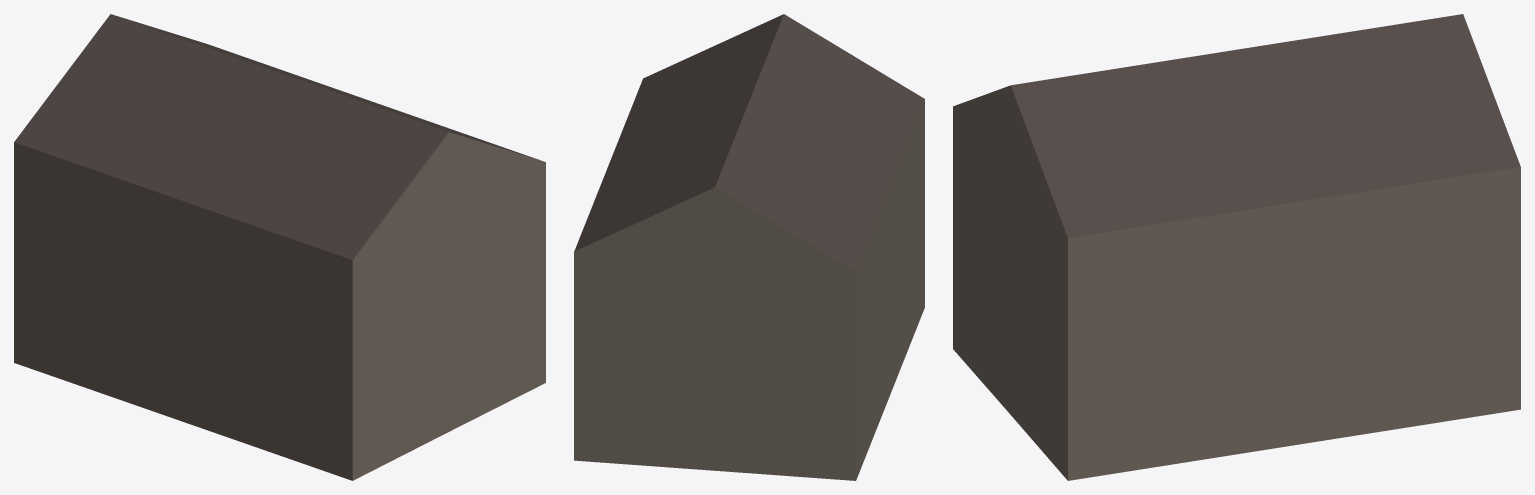
3 renders of one model, left to right at view 1: azimuth 30°, elevation 25°; view 2: azimuth 150°, elevation 25°; view 3: azimuth 270°, elevation 25°, orthographic. The views are drawn at different scales.
Parts seen in each view (by area): view 1: HP-w1198840847; view 2: HP-w1198840847; view 3: HP-w1198840847.
Part boxes in pixels (x1,y1,x2,y2): HP-w1198840847: [14, 14, 545, 480]; HP-w1198840847: [574, 14, 924, 480]; HP-w1198840847: [953, 14, 1520, 480].
Size of the model in its own units: 10.77 by 8.15 by 12.72.
